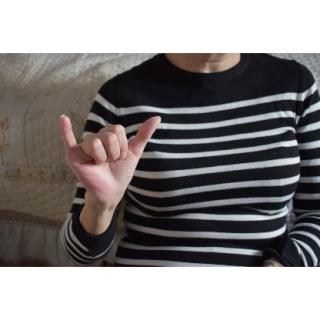YA: (53, 107, 163, 215)
